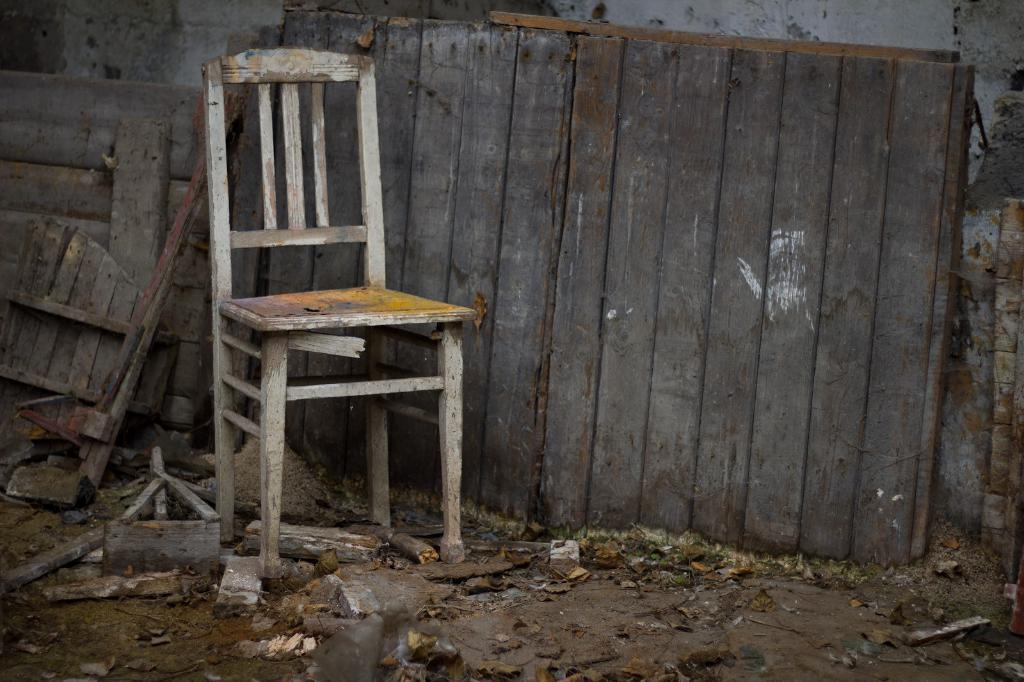Chair: (170, 46, 454, 530)
